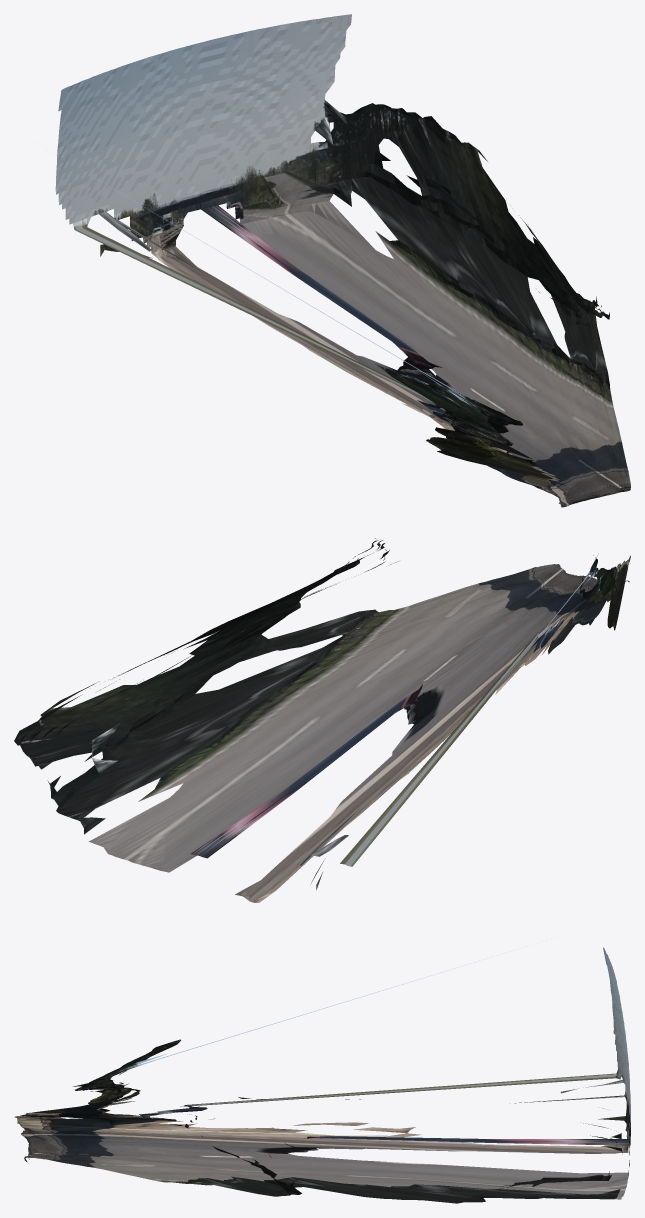
The picture shows the model from 3 angles, top to bottom: view 1: azimuth 30°, elevation 25°; view 2: azimuth 150°, elevation 25°; view 3: azimuth 270°, elevation 25°; orthographic projection. The views are drawn at different scales.
Parts seen in each view (by area): view 1: defaultobject; view 2: defaultobject; view 3: defaultobject.
Boxes of the visible parts, <box> form: defaultobject: <box>55,14,630,507</box>; defaultobject: <box>14,538,630,902</box>; defaultobject: <box>14,947,630,1203</box>.
Size of the model in its own units: 28.91 by 13.21 by 45.23.
Materials: 1 (1 with a texture image).
